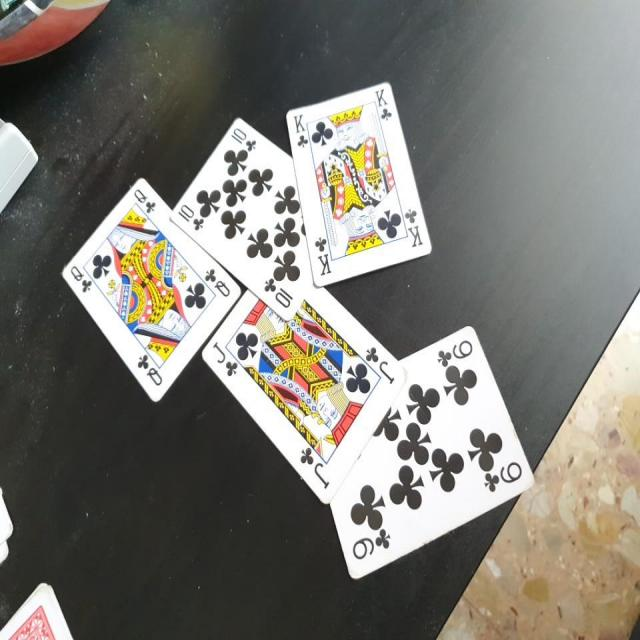10 Trefoils: (171, 117, 318, 320)
9 Trefoils: (330, 324, 536, 578)
J Trefoils: (201, 279, 412, 506)
K Trefoils: (284, 80, 433, 287)
Q Trefoils: (60, 178, 241, 405)
